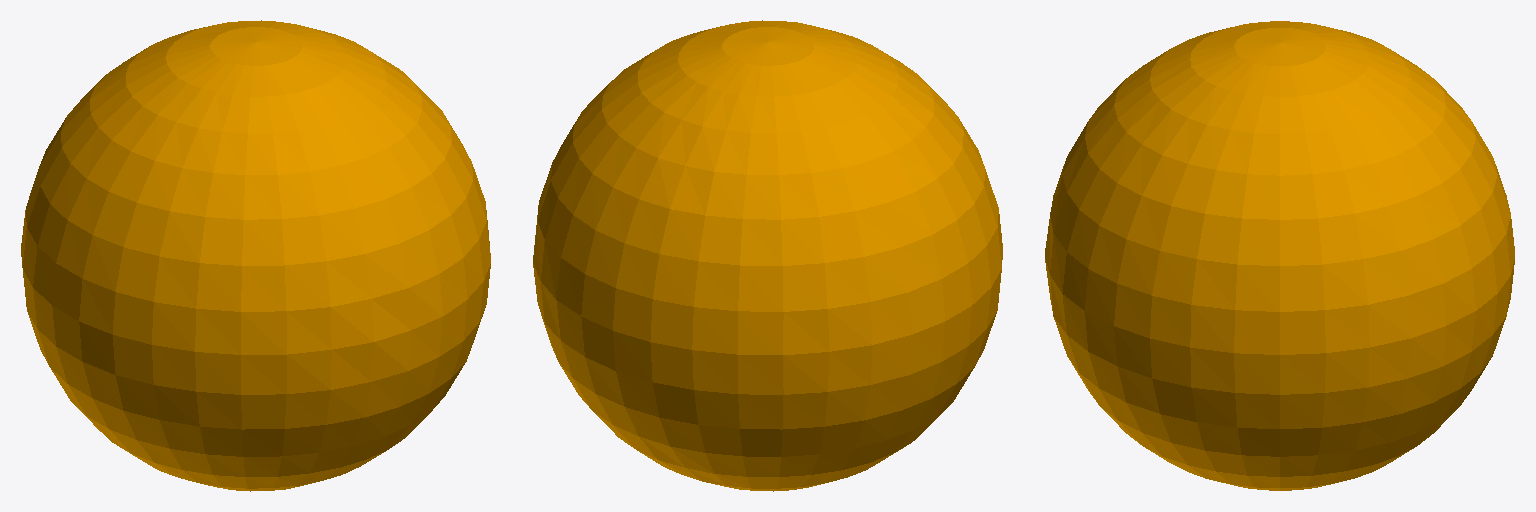
robot.urdf — light_livingroom:
<?xml version="1.0" ?>

<robot name="light_livingroom" xmlns:xi="http://www.w3.org/2001/XInclude"
	xmlns:gazebo="http://playerstage.sourceforge.net/gazebo/xmlschema/#gz"
	xmlns:model="http://playerstage.sourceforge.net/gazebo/xmlschema/#model"
	xmlns:sensor="http://playerstage.sourceforge.net/gazebo/xmlschema/#sensor"
	xmlns:body="http://playerstage.sourceforge.net/gazebo/xmlschema/#body"
	xmlns:geom="http://playerstage.sourceforge.net/gazebo/xmlschema/#geom"
	xmlns:joint="http://playerstage.sourceforge.net/gazebo/xmlschema/#joint"
	xmlns:interface="http://playerstage.sourceforge.net/gazebo/xmlschema/#interface"
	xmlns:rendering="http://playerstage.sourceforge.net/gazebo/xmlschema/#rendering"
	xmlns:renderable="http://playerstage.sourceforge.net/gazebo/xmlschema/#renderable"
	xmlns:controller="http://playerstage.sourceforge.net/gazebo/xmlschema/#controller"
	xmlns:physics="http://playerstage.sourceforge.net/gazebo/xmlschema/#physics">

  <link name="bulb_wr">
   <inertial>
	<mass value="1" />
			<com xyz="1.81 6.6 2.15" />
			<inertia ixx="0" ixy="0.0" ixz="0.0" iyy="0" iyz="0.0" izz="0" />
		</inertial>

		<visual>
			<origin xyz="1.81 6.6 2.15" rpy="0 0 0" />  <!--   definition of the visual postion of the object!! -->
			<geometry>
				<sphere radius="0.0001" />
			</geometry>
		</visual>
		<collision>
			<origin xyz="1.81 6.6 2.15" rpy="0 0 0" />
			<geometry>
				<sphere radius="0.0001" />
			</geometry>
		</collision>
	</link>

	<gazebo reference="bulb_wr">
		<model:renderable name="light_wr">
			<xyz>1.81 6.6 2.15</xyz>
			<static>true</static>
			<light>
				<type>point</type>
				<diffuseColor>0.1 0.1 0.1</diffuseColor>
				<specularColor>.01 .01 .01</specularColor>
				<attenuation>0.1 0.1 0.0001</attenuation>
				<range>4</range>
			</light>
		</model:renderable>
	</gazebo>
</robot>

--- Facts derived from the render (not from the file) ---
The picture shows the robot from 3 angles, left to right: view 1: azimuth 30°, elevation 25°; view 2: azimuth 150°, elevation 25°; view 3: azimuth 270°, elevation 25°; orthographic projection.
Model light_livingroom with 1 links and 0 joints (none), rooted at bulb_wr, posed every joint at zero.
Links seen in each view (by area): view 1: bulb_wr; view 2: bulb_wr; view 3: bulb_wr.
Link boxes in pixels (x1,y1,x2,y2): bulb_wr: (21, 20, 490, 491); bulb_wr: (533, 20, 1002, 491); bulb_wr: (1045, 21, 1514, 490).
Bounding box of the posed robot: 0.0002 × 0.0002 × 0.0002 m (x, y, z).
Geometry: primitives only (box / cylinder / sphere), no mesh files.